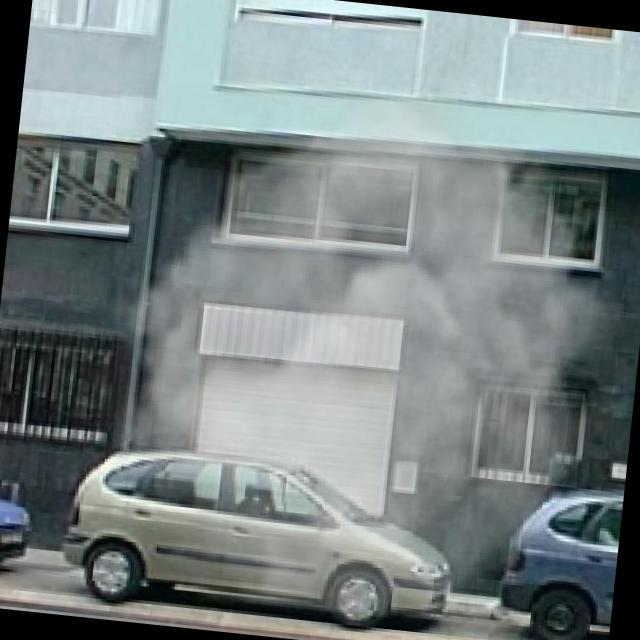Smoke: (77, 73, 640, 639)
